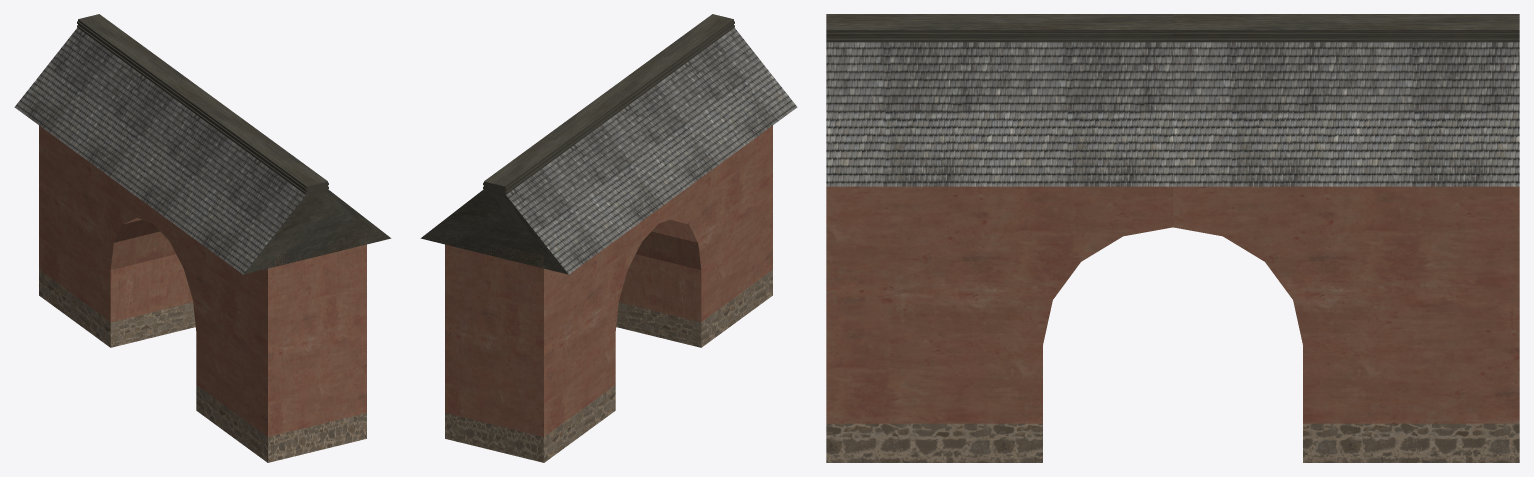
The model's file is NewChineseWallWithGate.fbx.
The picture shows the model from 3 angles, left to right: view 1: azimuth 30°, elevation 25°; view 2: azimuth 150°, elevation 25°; view 3: azimuth 270°, elevation 25°; orthographic projection. The views are drawn at different scales.
Parts seen in each view (by area): view 1: Cone.004; view 2: Cone.004; view 3: Cone.004.
Part boxes in pixels (x1=…): Cone.004: x1=14, y1=14, x2=391, y2=462; Cone.004: x1=420, y1=14, x2=797, y2=462; Cone.004: x1=826, y1=14, x2=1519, y2=462.
Bounding box in the file's own units: 600 × 1030 × 1600.
